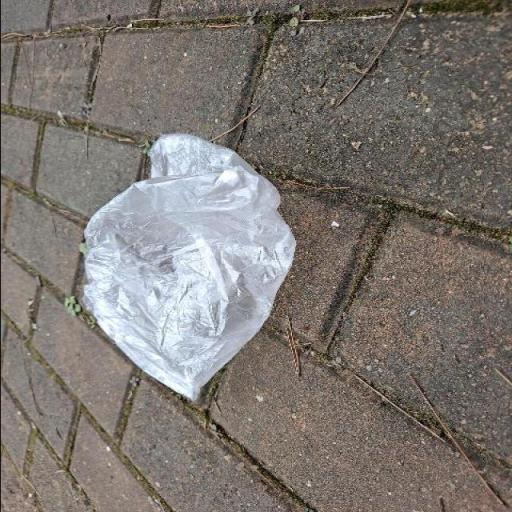plastic-bag: (77, 132, 299, 401)
